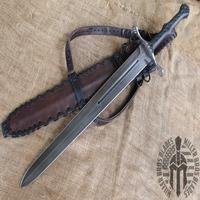knife: (16, 13, 182, 193)
